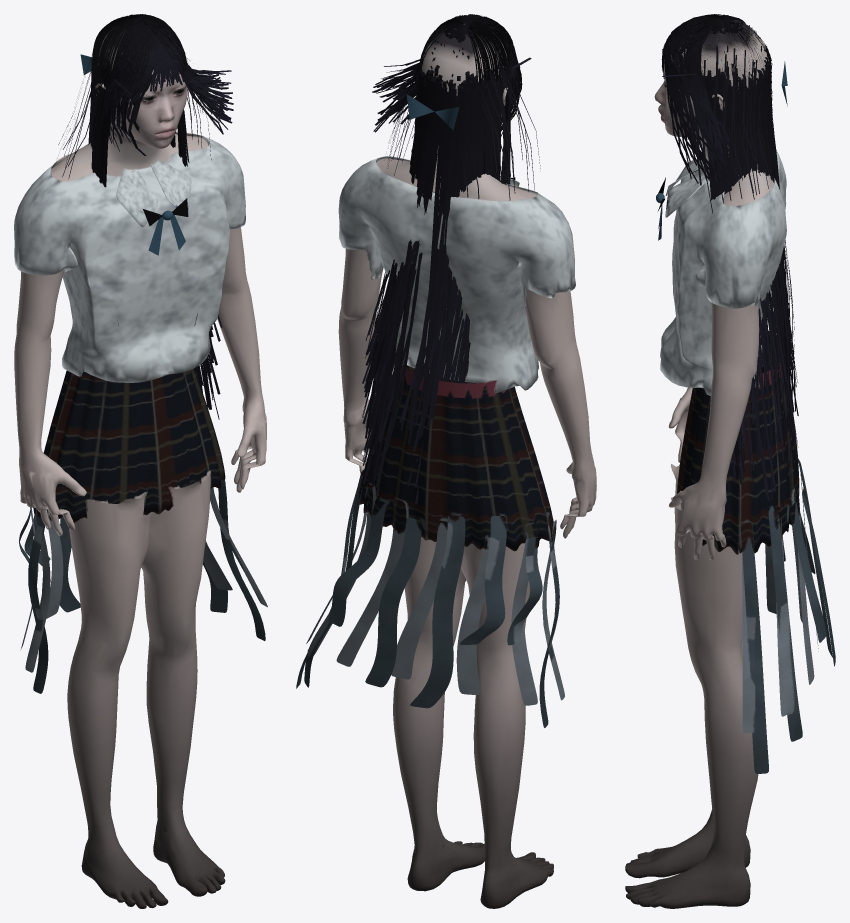
The model's file is pool.glb.
The picture shows the model from 3 angles, left to right: view 1: azimuth 30°, elevation 25°; view 2: azimuth 150°, elevation 25°; view 3: azimuth 270°, elevation 25°; orthographic projection. The views are drawn at different scales.
Parts seen in each view (by area): view 1: GhostBody, GhostHair; view 2: GhostBody, GhostHair; view 3: GhostBody, GhostHair.
Part boxes in pixels (x1,y1,x2,y2): GhostBody: (14, 26, 267, 908); GhostHair: (54, 14, 233, 419); GhostBody: (296, 21, 596, 908); GhostHair: (362, 14, 540, 503); GhostBody: (625, 19, 835, 908); GhostHair: (661, 14, 798, 507).
Size of the model in its own units: 0.5589 by 1.72 by 0.3787.
Materials: 2 (1 with a texture image).
